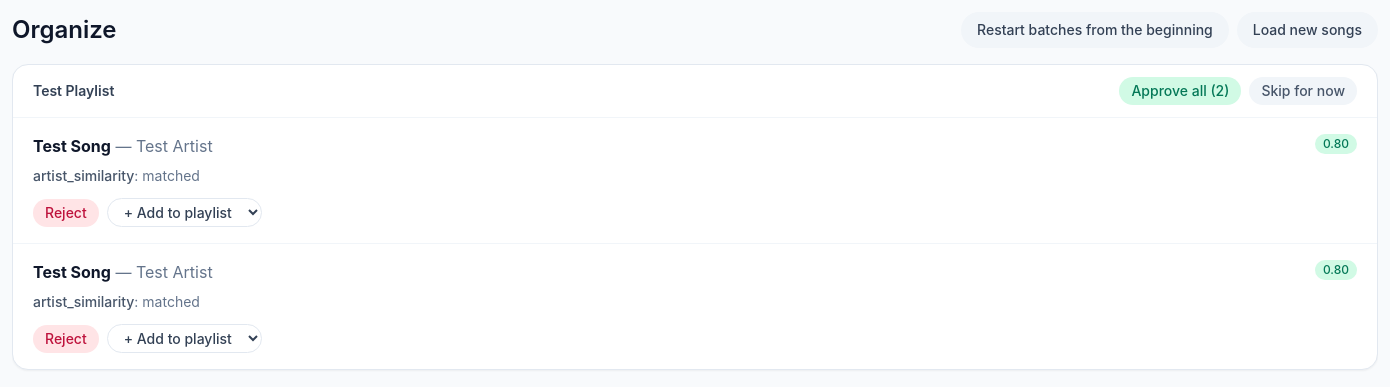
it: ReviewQueue › approves every song in a playlist group when Approve all is clicked
Expected: the list item with test id "queue-item-1" is shown, [13,118,1377,243]
Click the button "Approve all (2)". click: click(1180, 91)
box: [1119,77,1241,105]
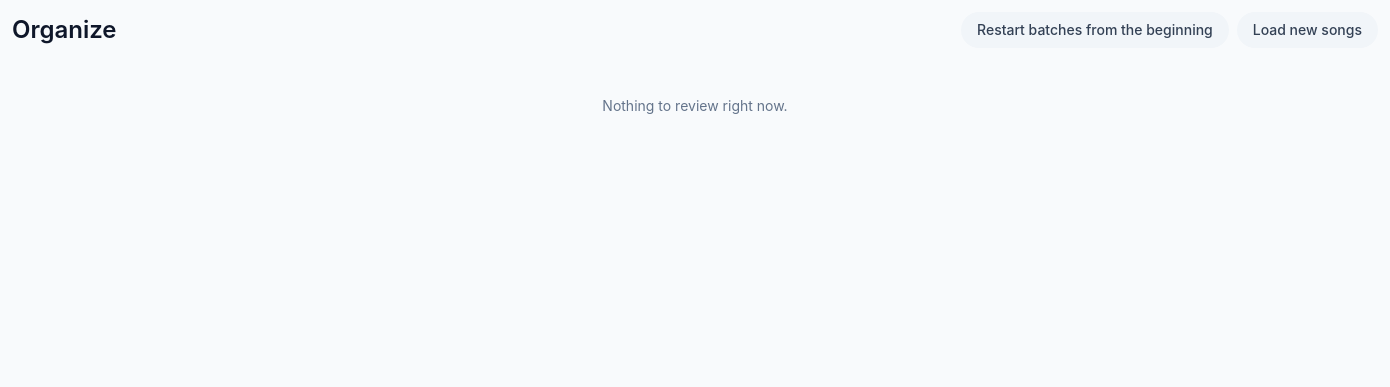
Expected: the list item with test id "queue-item-1" is gone
Expected: the list item with test id "queue-item-2" is gone
